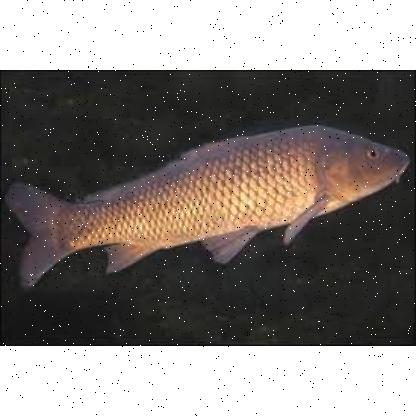ikan-mas: (6, 124, 410, 290)
